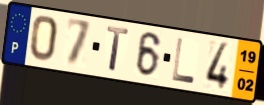0: (28, 14, 60, 64)
4: (203, 40, 231, 93)
6: (134, 31, 163, 80)
7: (65, 16, 91, 69)
L: (171, 37, 197, 86)
T: (105, 24, 131, 74)
